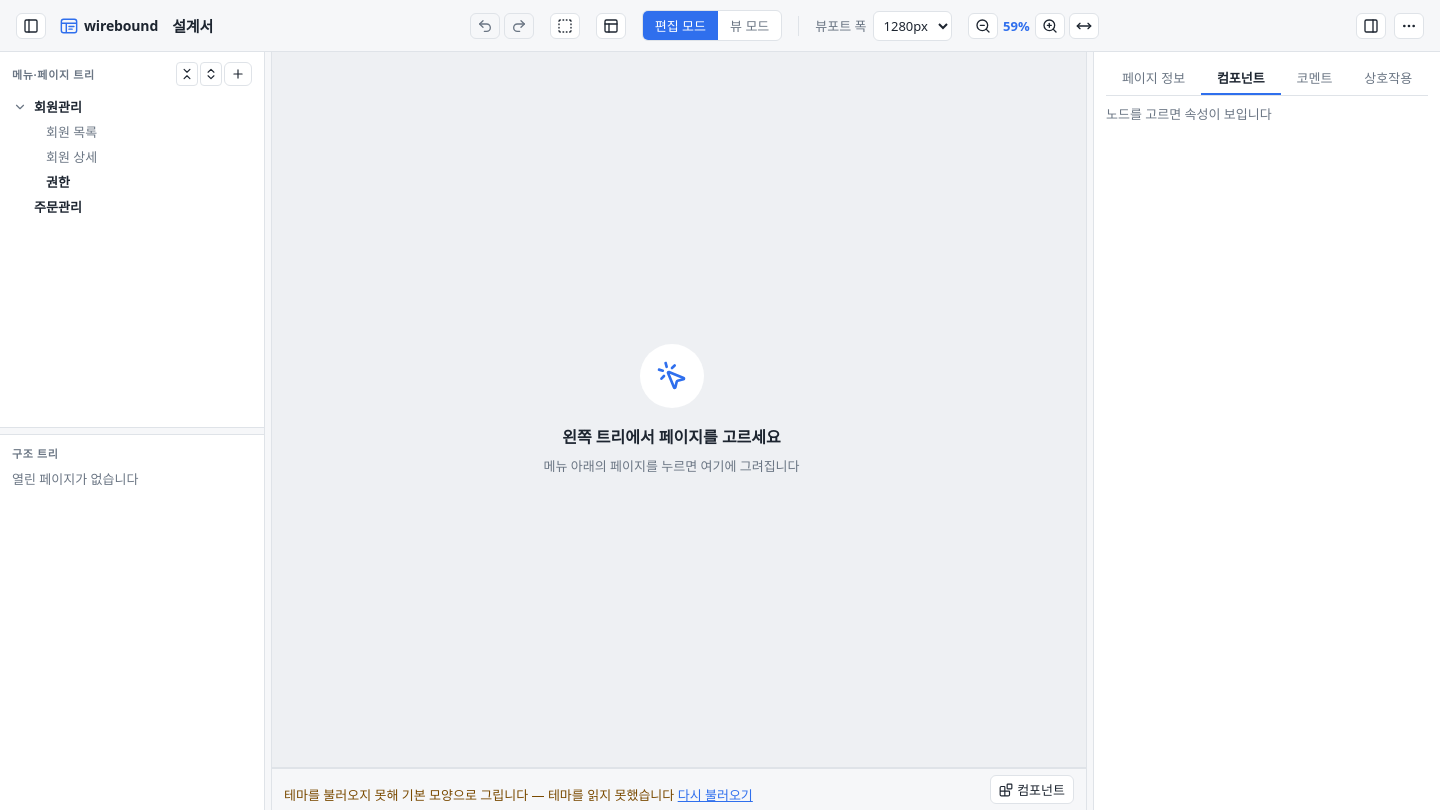
Test case: 메뉴·페이지 만들기 › 실패하면 서버 문장이 트리 안에 남고 트리를 다시 받지 않는다
Expected: the heading "설계서" is shown, [172,15,213,36]
Step 1. Click the button "회원관리" → (111, 106), box [30,94,192,119]
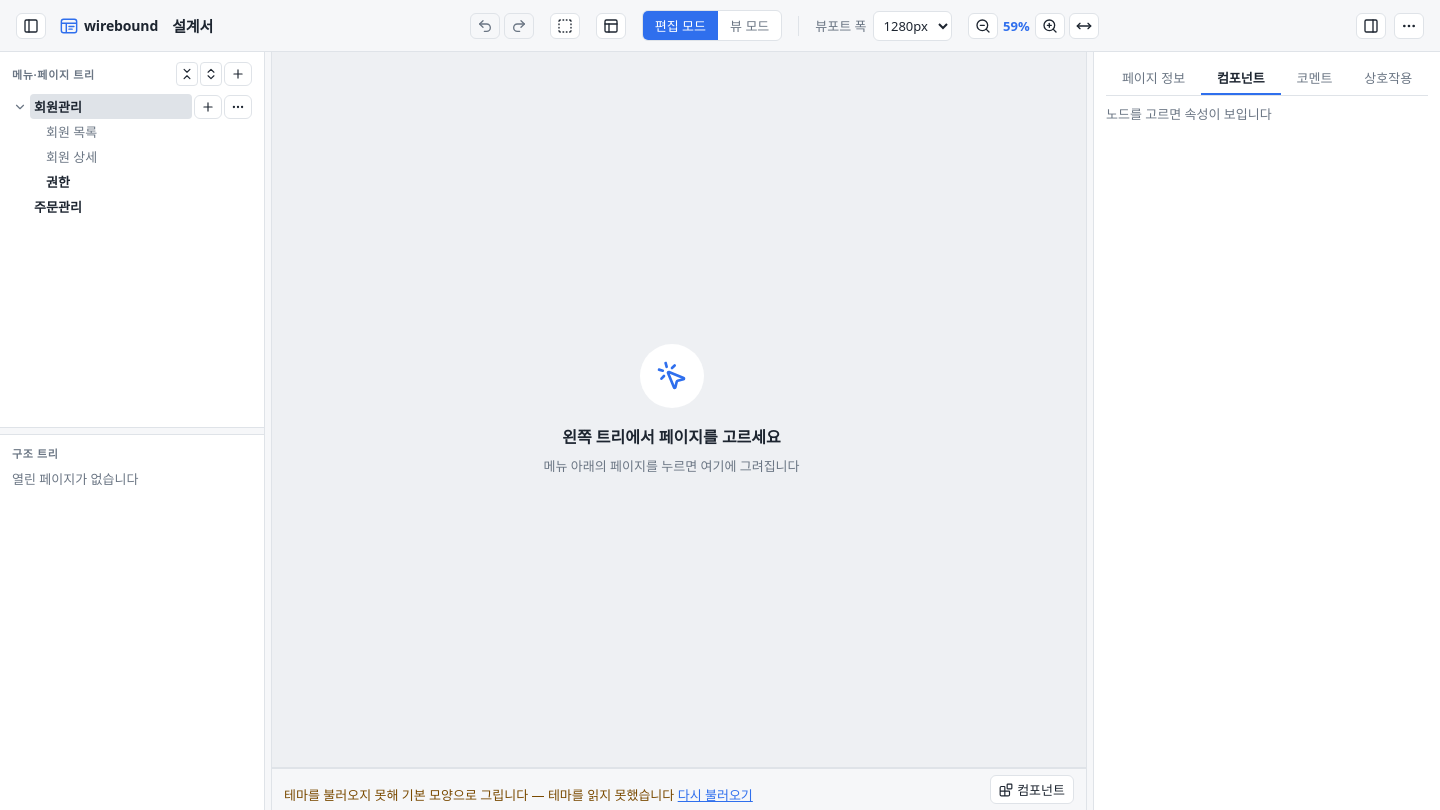
Step 2. Click the button named "회원관리 추가" → (208, 106), box [194,94,222,118]
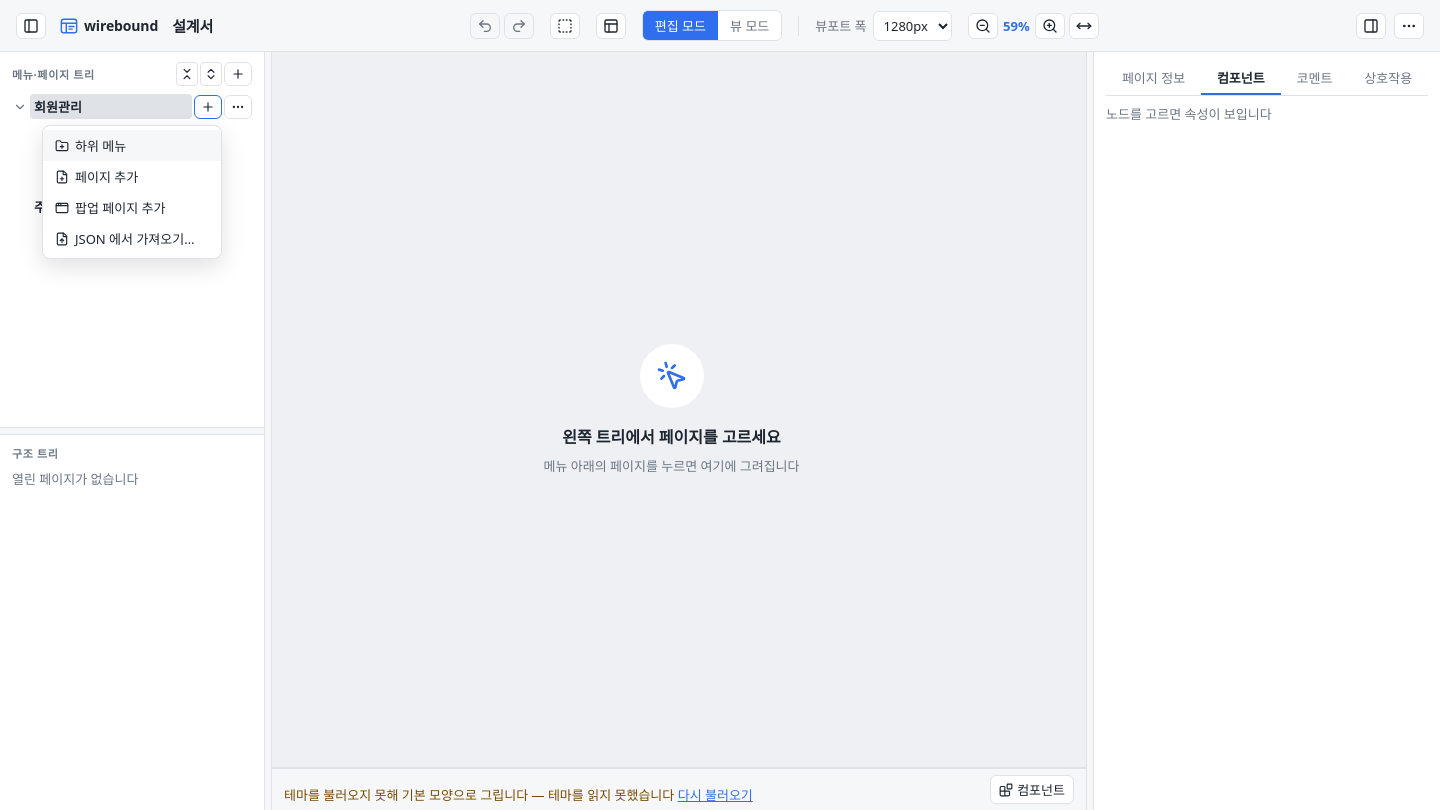
Step 3. Click the menu item "하위 메뉴" → (132, 145), box [43,130,221,160]
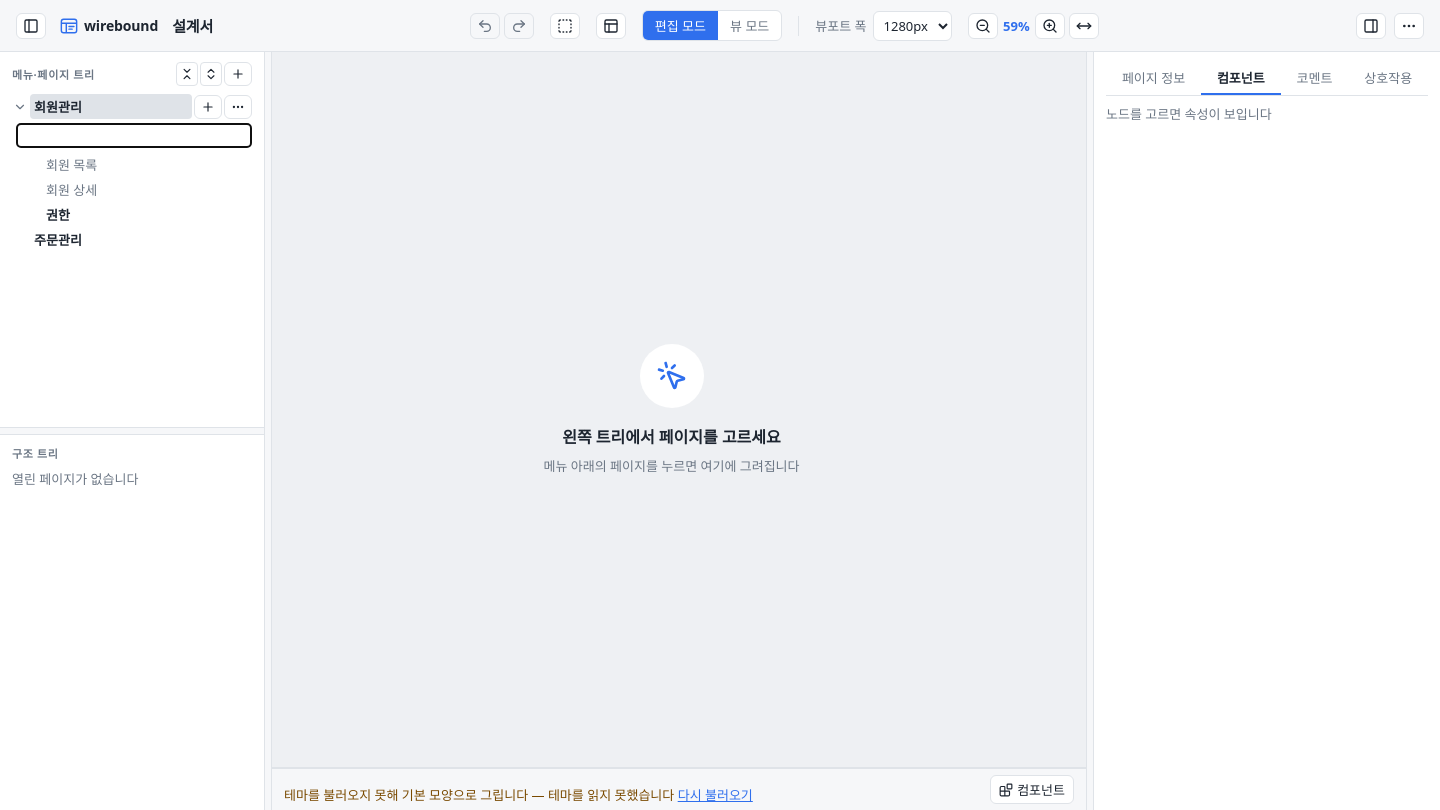
Step 4. Type "사용자" into the field named "이름" → (134, 136), box [16,123,252,148]
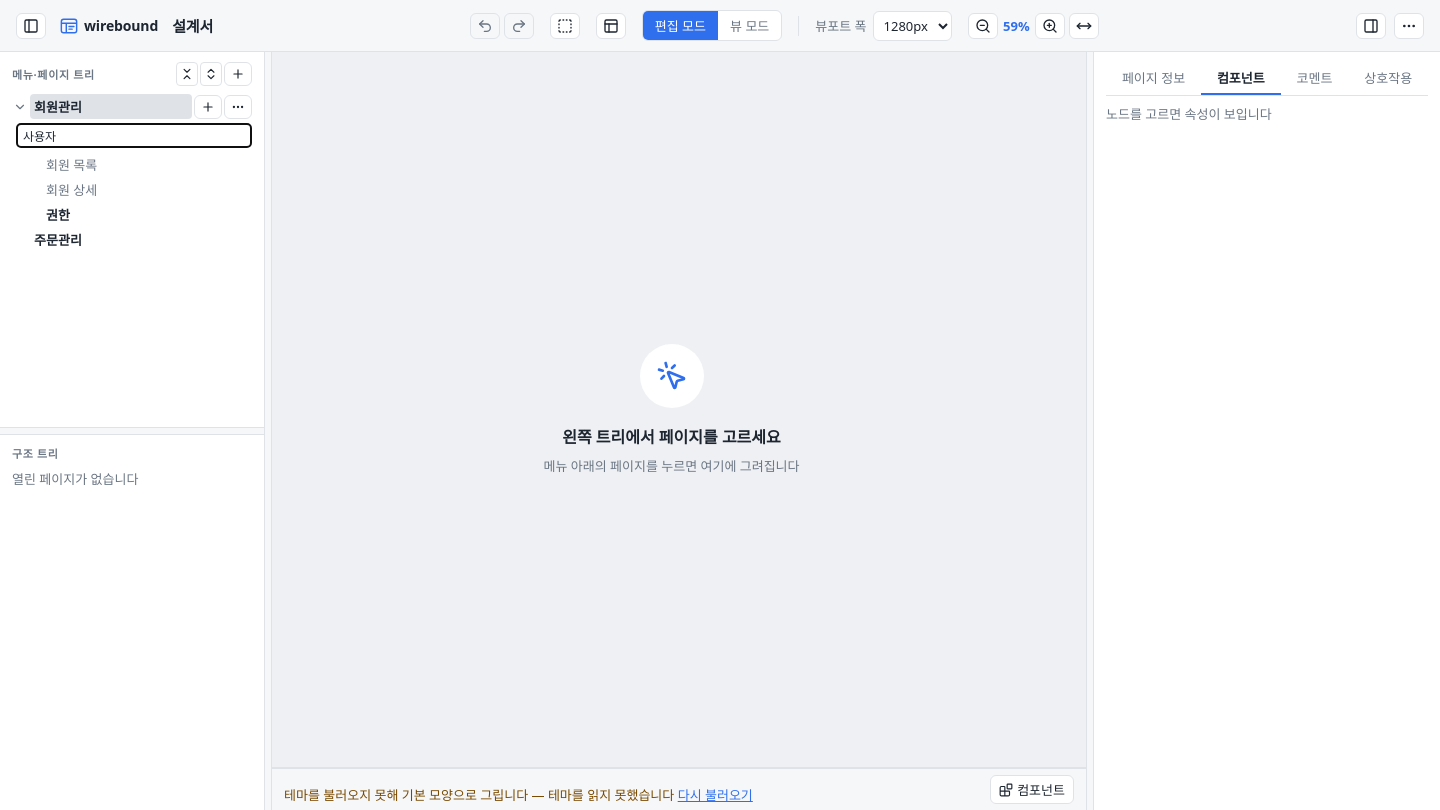
Step 5. Press Enter in the field named "이름", box [16,123,252,148]
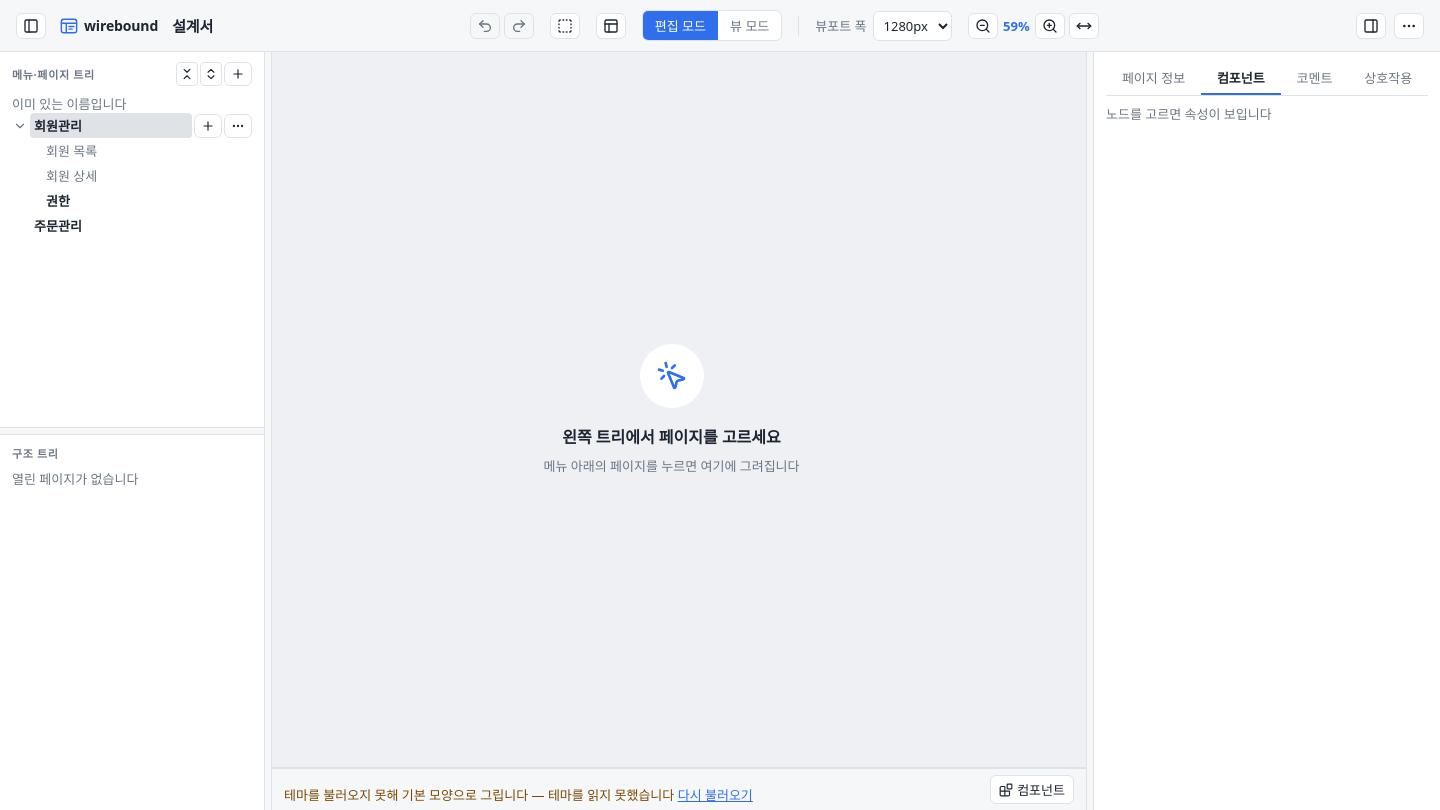
Now the text "이미 있는 이름입니다" is shown, box [12,95,126,113]
